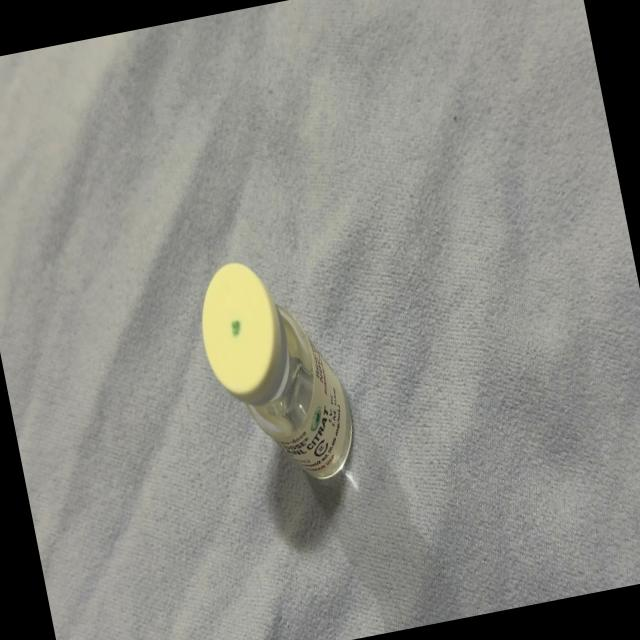fentanl_citrat: (192, 250, 360, 494)
